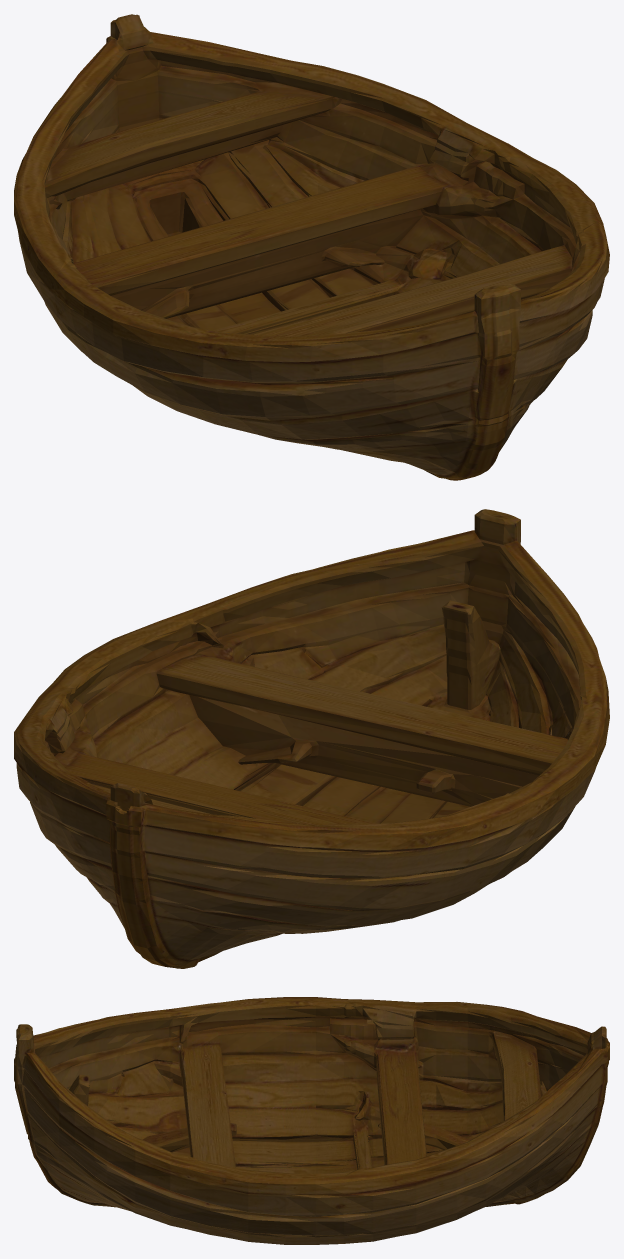
File: Canoa baja calidad.glb
The picture shows the model from 3 angles, top to bottom: view 1: azimuth 30°, elevation 25°; view 2: azimuth 150°, elevation 25°; view 3: azimuth 270°, elevation 25°; orthographic projection. The views are drawn at different scales.
Parts seen in each view (by area): view 1: tripo_node_6245126a-0814-4384-92db-79d8d68dac13; view 2: tripo_node_6245126a-0814-4384-92db-79d8d68dac13; view 3: tripo_node_6245126a-0814-4384-92db-79d8d68dac13.
Part boxes in pixels (box(x1,y1,x2,y2)): tripo_node_6245126a-0814-4384-92db-79d8d68dac13: box(14, 14, 609, 480); tripo_node_6245126a-0814-4384-92db-79d8d68dac13: box(14, 509, 609, 968); tripo_node_6245126a-0814-4384-92db-79d8d68dac13: box(14, 997, 609, 1244).
Size of the model in its own units: 2.37 by 1.08 by 3.19.
Materials: 1 (1 with a texture image).
